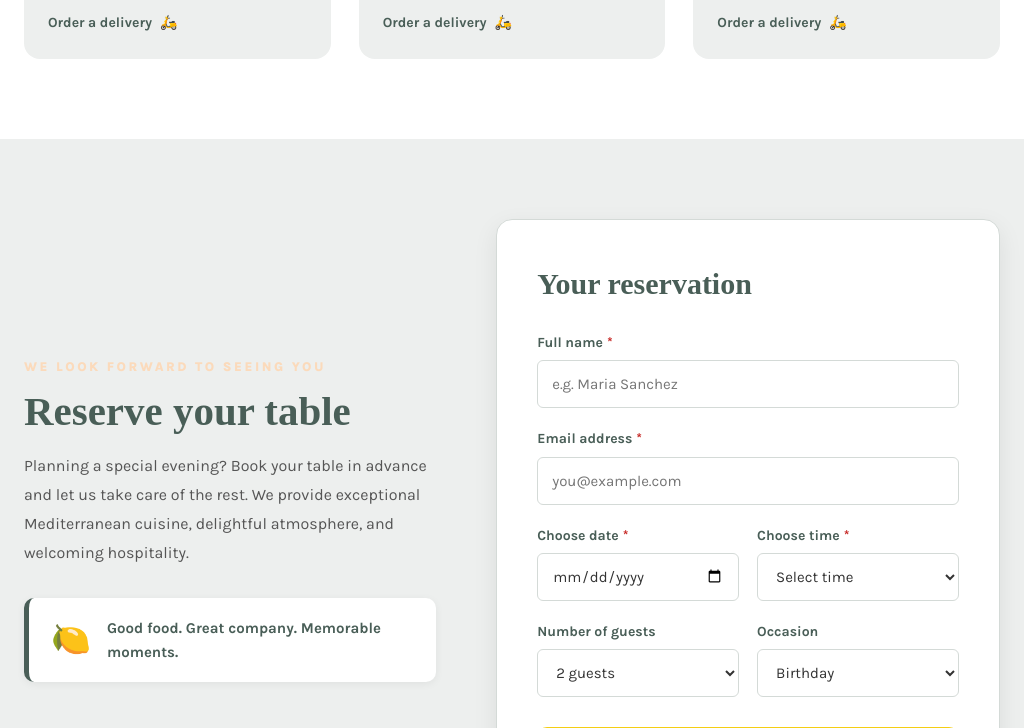
Little Lemon Table Booking Application › validates minimum length for full name
(page scrolled)
Type "A" into the field labelled "Full name *".
click(748, 384); type("A")  # box 537,360 -> 959,408
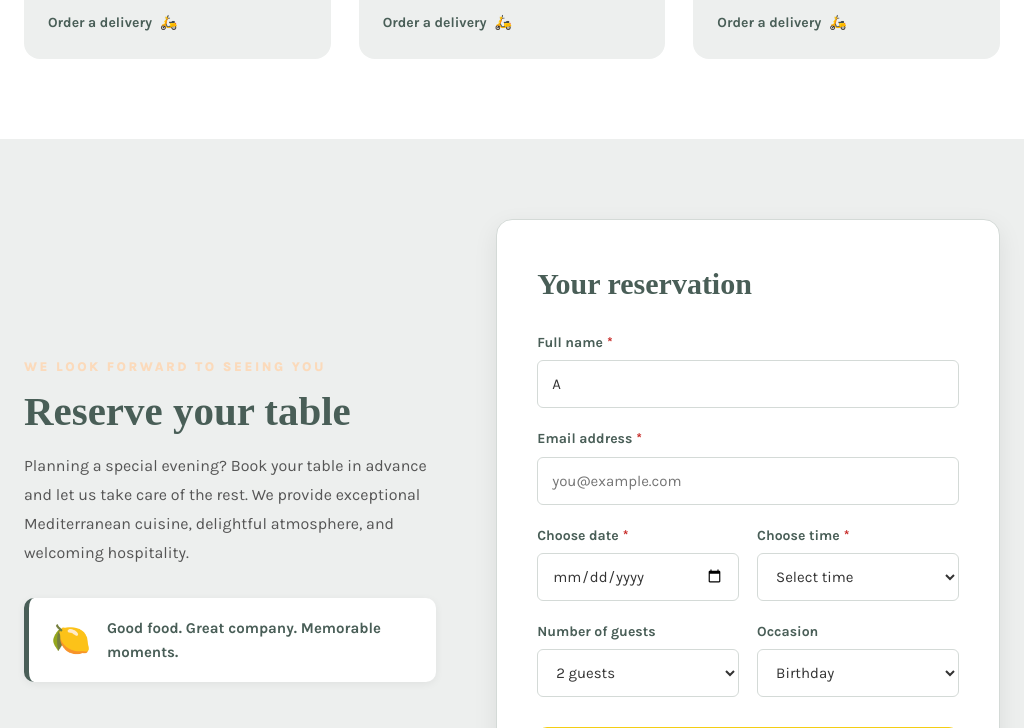
Leave the field labelled "Full name *", box 537,360 -> 959,408
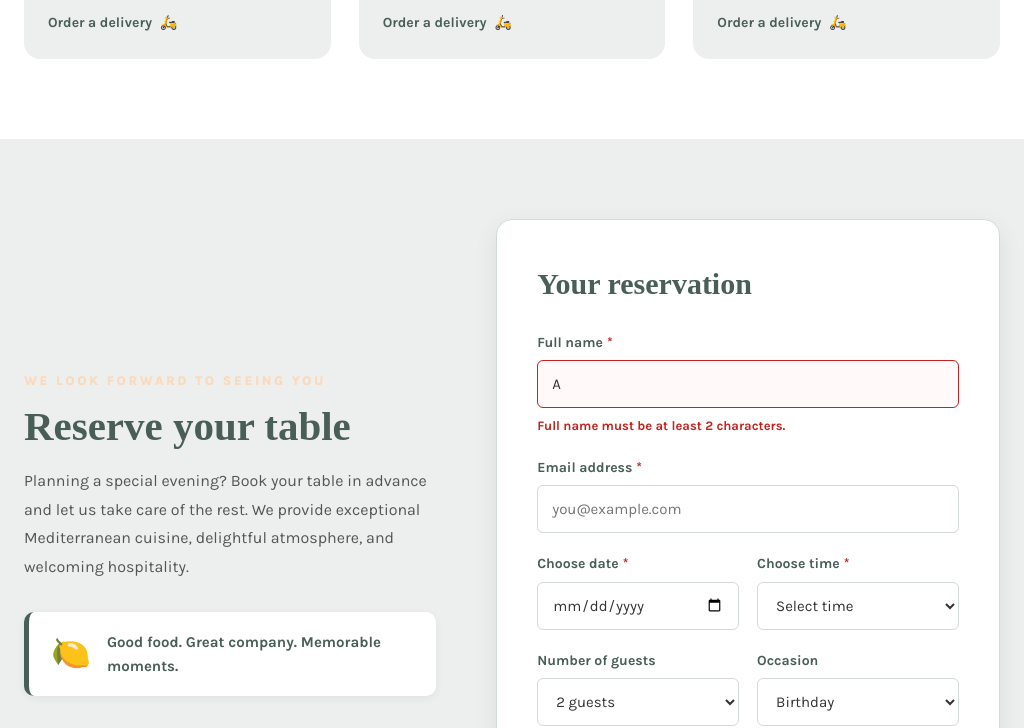
Check: the text "Full name must be at least 2 characters." is shown, box 537,418 -> 785,433
